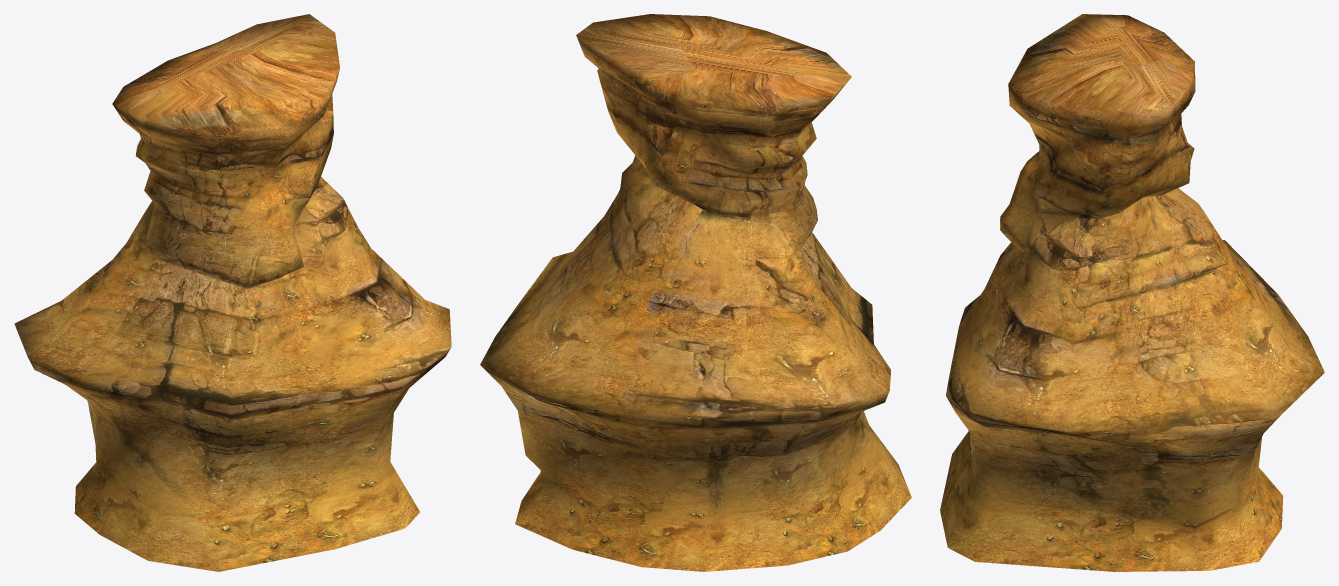
The model's file is SM_EN_2006_shan05.FBX.
The picture shows the model from 3 angles, left to right: view 1: azimuth 30°, elevation 25°; view 2: azimuth 150°, elevation 25°; view 3: azimuth 270°, elevation 25°; orthographic projection. The views are drawn at different scales.
Parts seen in each view (by area): view 1: SM_EN_2006_shan05; view 2: SM_EN_2006_shan05; view 3: SM_EN_2006_shan05.
Part boxes in pixels (x1,y1,x2,y2): SM_EN_2006_shan05: [14, 14, 451, 571]; SM_EN_2006_shan05: [480, 14, 911, 571]; SM_EN_2006_shan05: [940, 14, 1324, 571].
Bounding box in the file's own units: 196 × 220 × 171.
